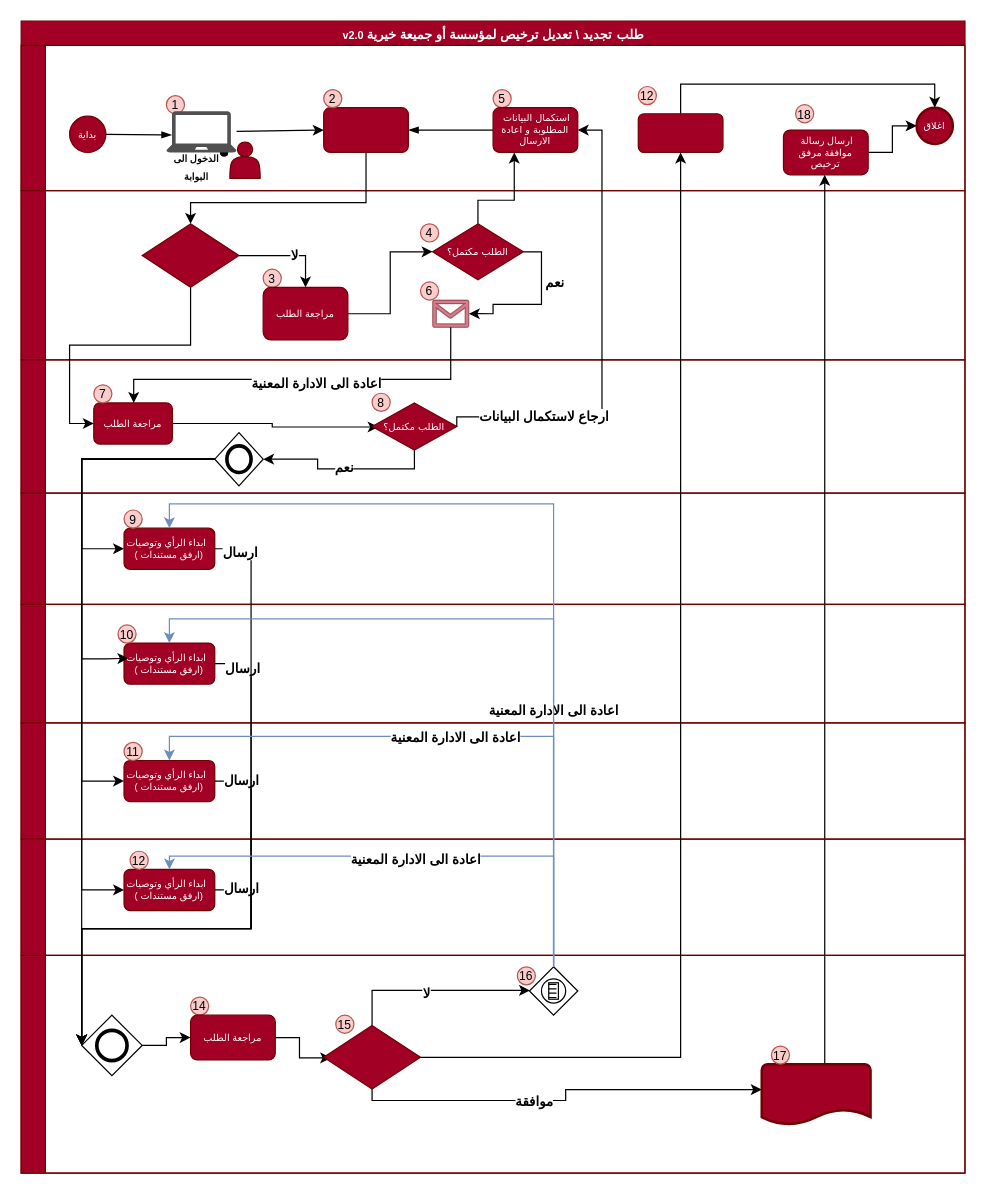
Image size: 986x1194. Some labels were removed from this diagram. Each missing label, with the box of its shape:
ادارة الحوكمة: (20, 838, 965, 955)
ادارة المشاريع الخيرية: (20, 722, 965, 839)
ادارة تقنية المعلومات: (20, 603, 965, 723)
ادارة شؤون الزكاة وصدقات: (20, 492, 965, 604)
ارسال رسالة إعتذار: (637, 113, 723, 152)
اصدار ترخيص من النظام: (760, 1062, 871, 1125)
اعلام الجهة الخارجية بالبريد الالكتروني: (431, 299, 469, 327)
العميل: (20, 44, 965, 191)
المنسق: (20, 189, 965, 360)
تحديد الادارة المعنية: (528, 966, 578, 1015)
تعبئة وتقديم نموذج الطلب: (322, 106, 408, 152)
رئيس القسم: (20, 359, 965, 493)
مدير الادارة: (20, 954, 965, 1173)
من رئيس القسم؟ في حال مرجع من رئيسر القسم: (141, 223, 239, 287)
موافقة؟: (322, 1024, 420, 1089)
